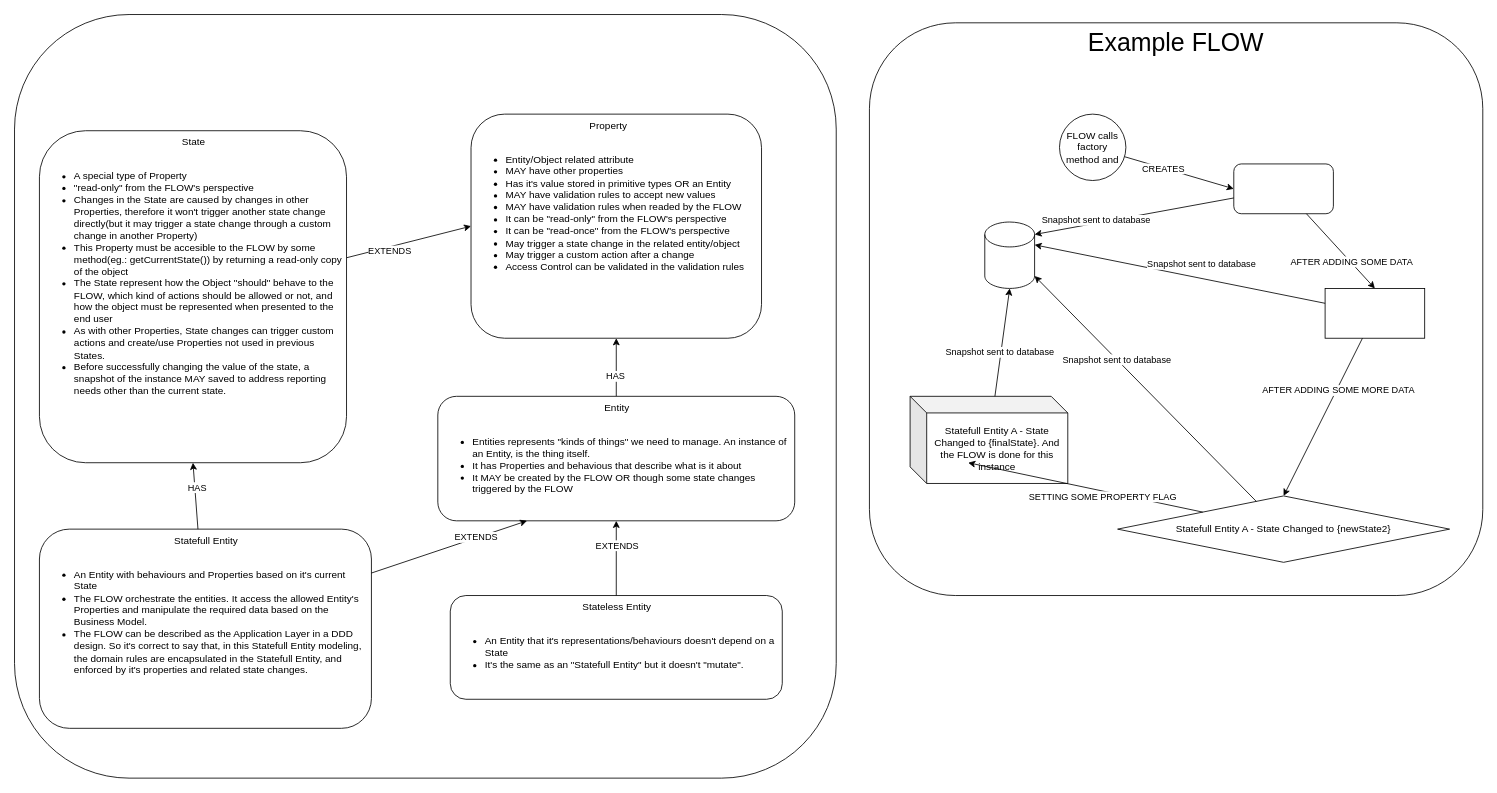
Some shapes in this 1497 by 793 pixel diagram are drawn without their labels. The shapes that lost their labels are listed below. From the top down, each one's box as (x1, y1, x2, y2) in pixels, then its label:
(1233, 163, 1333, 214): Statefull Entity A
(984, 221, 1035, 288): snapshot database
(1324, 288, 1425, 338): Statefull Entity A - State Changed to {newState}
(14, 14, 836, 778): CORE CONCEPTS
